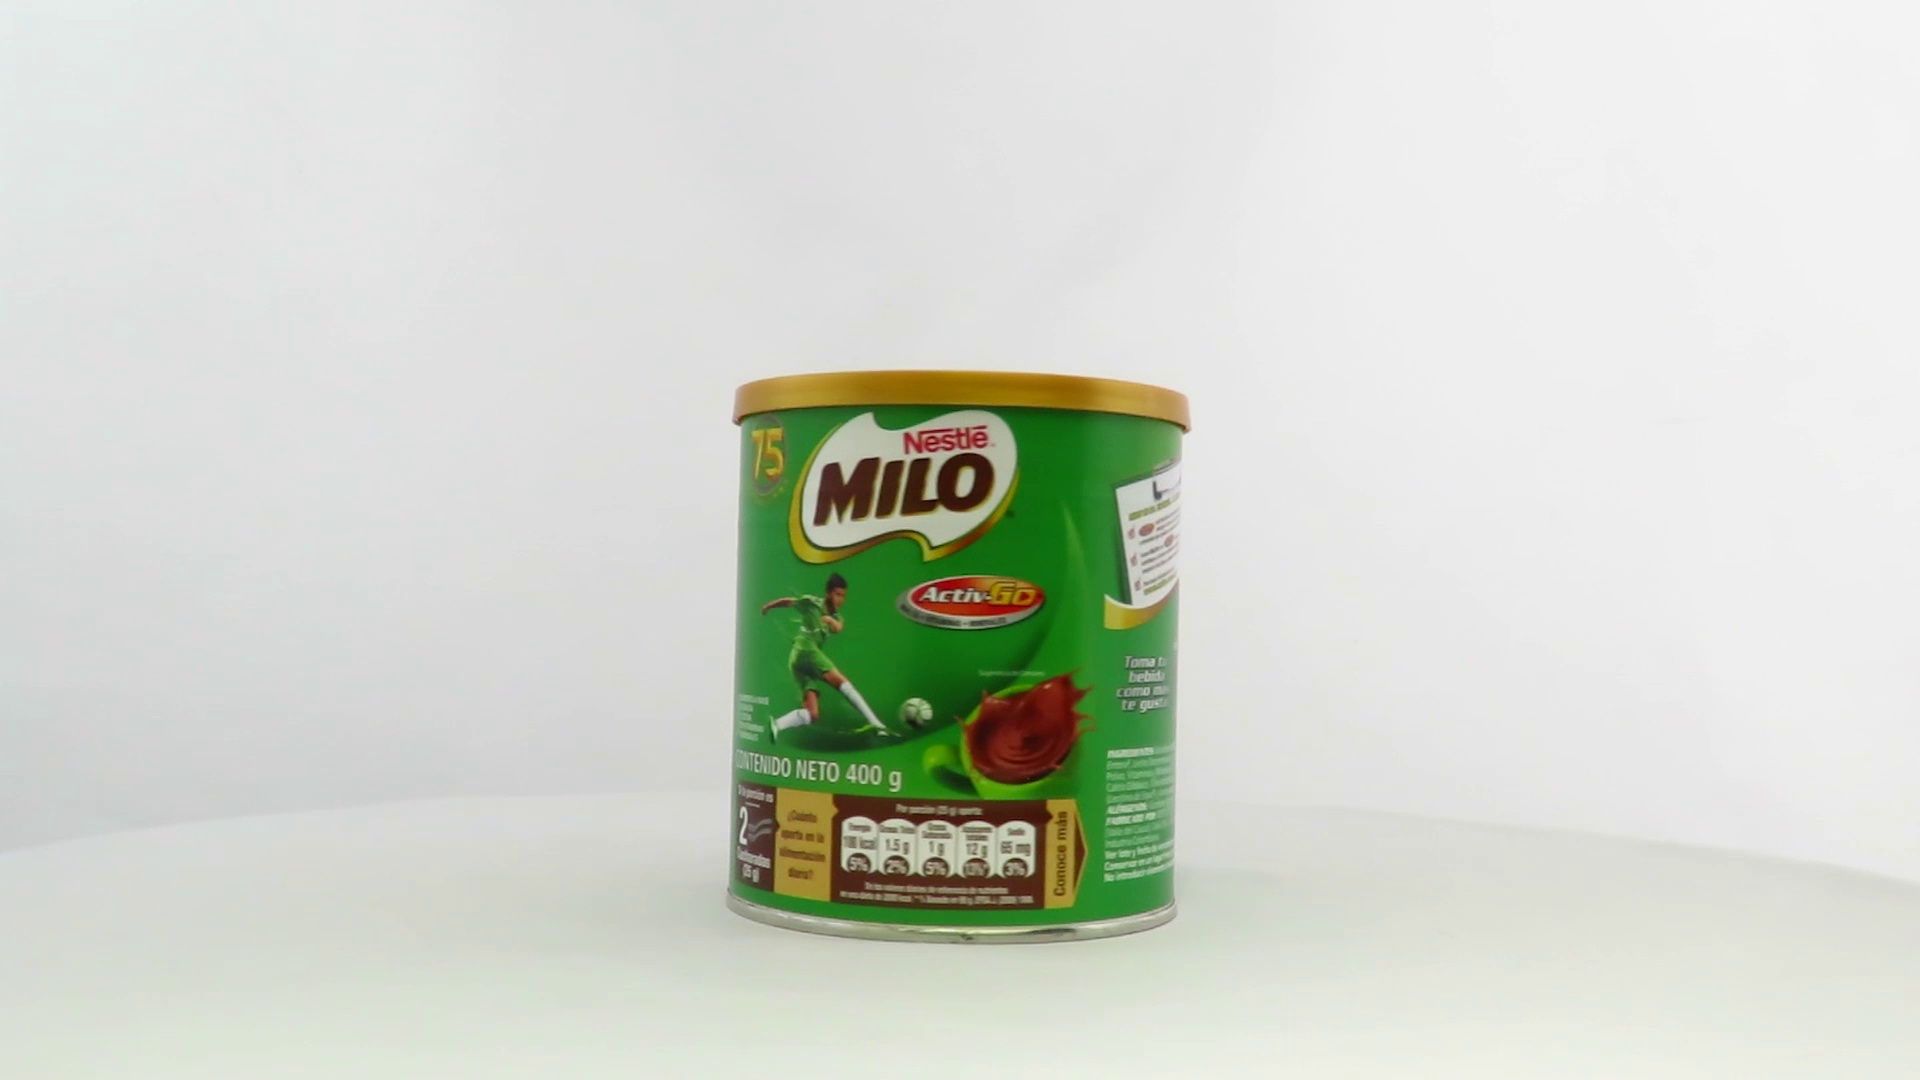COL0170203LAT40000: (720, 365, 1197, 951)
